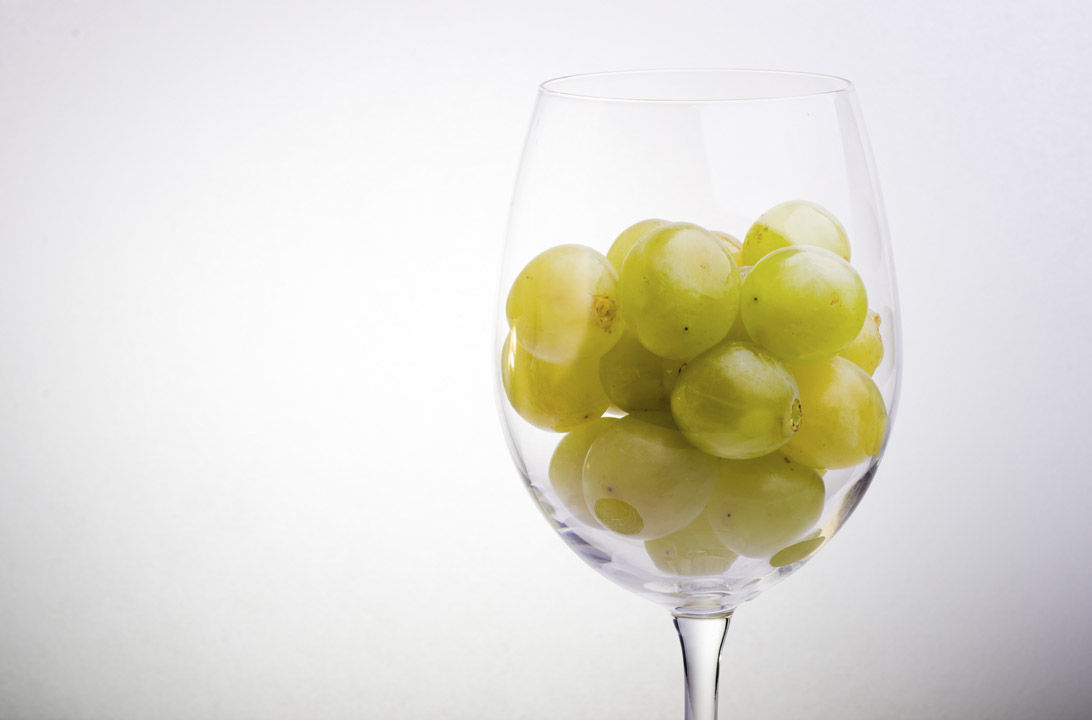Green grapes: (450, 213, 933, 591)
